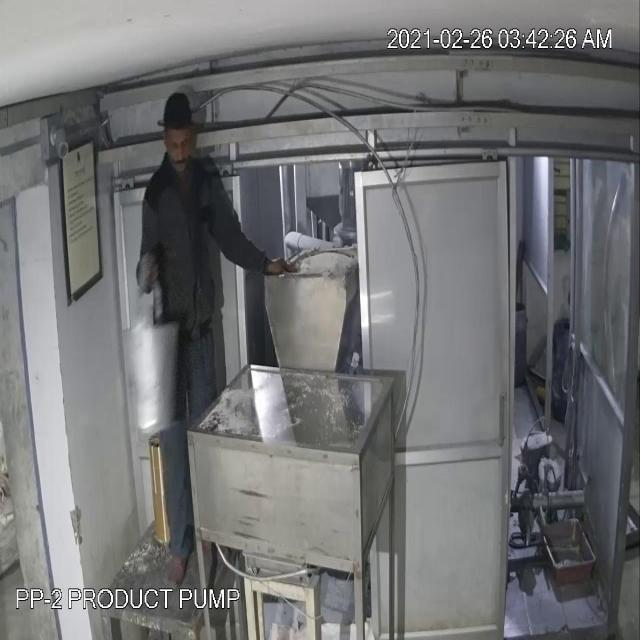no-helmet: (155, 87, 199, 188)
